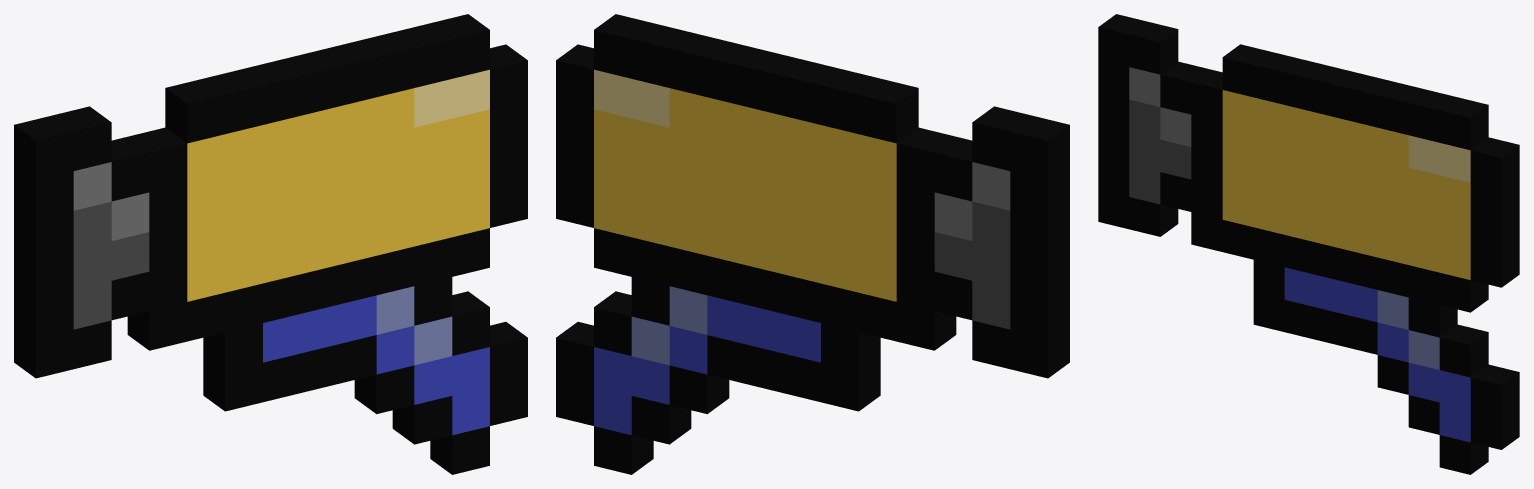
Rendered from Yellow Paintball Gun.glb.
3 renders of one model, left to right at view 1: azimuth 30°, elevation 25°; view 2: azimuth 150°, elevation 25°; view 3: azimuth 330°, elevation 25°, orthographic. The views are drawn at different scales.
Parts seen in each view (by area): view 1: generated(Clone); view 2: generated(Clone); view 3: generated(Clone).
Boxes of the visible parts, box(x1,y1,x2,y2) form: generated(Clone): box(14, 14, 527, 474); generated(Clone): box(556, 14, 1069, 474); generated(Clone): box(1098, 14, 1519, 474).
Size of the model in its own units: 13 by 11 by 1.
1 material, 1 textured.
